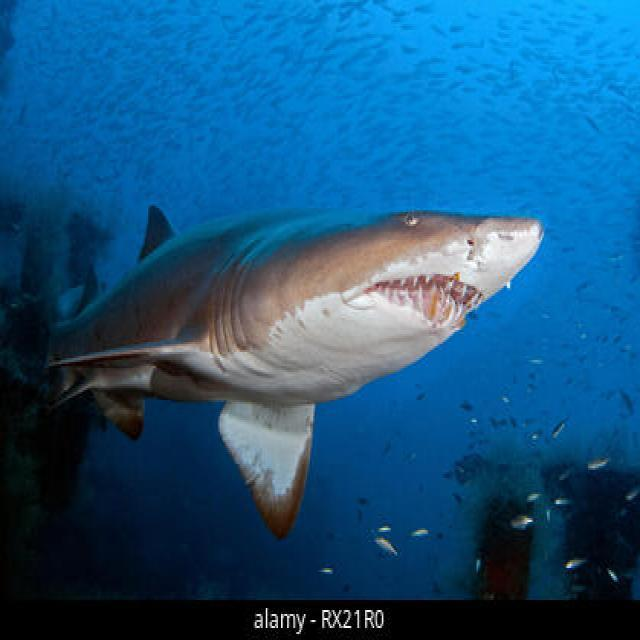Shark: (9, 178, 571, 540)
